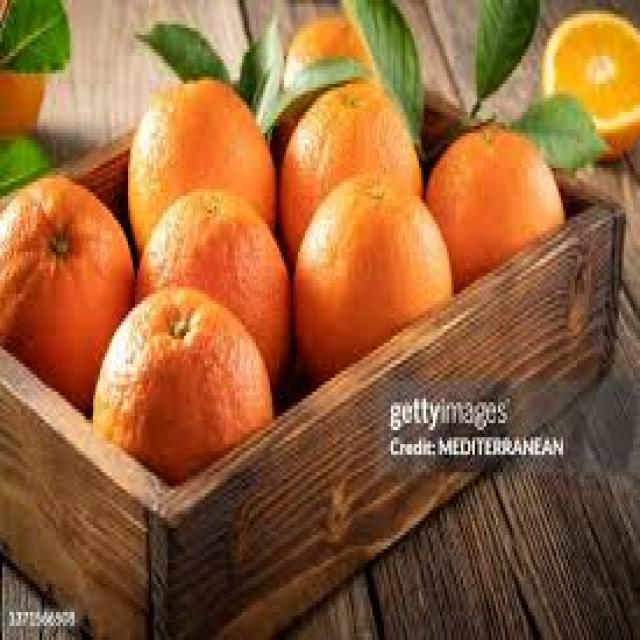orange: (294, 171, 454, 386), (92, 293, 275, 473), (1, 176, 134, 408), (138, 189, 287, 388), (279, 82, 422, 271), (129, 79, 277, 257), (426, 125, 566, 294), (283, 13, 370, 94)
